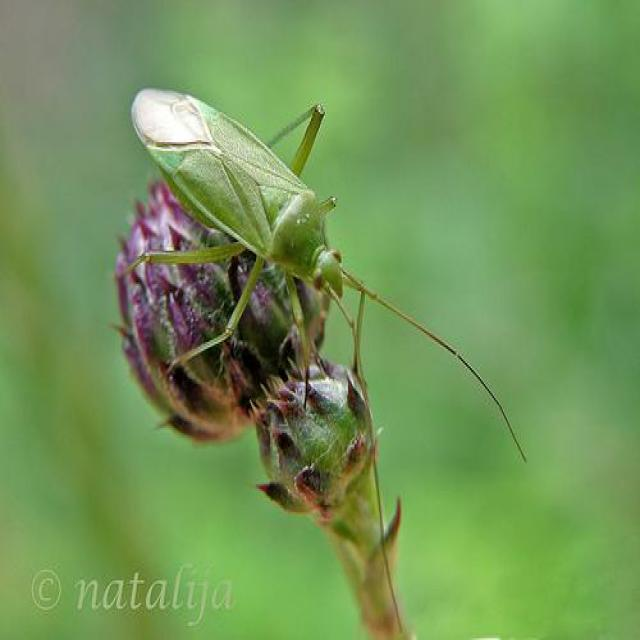Miridae-Adult-: (112, 69, 531, 463)
